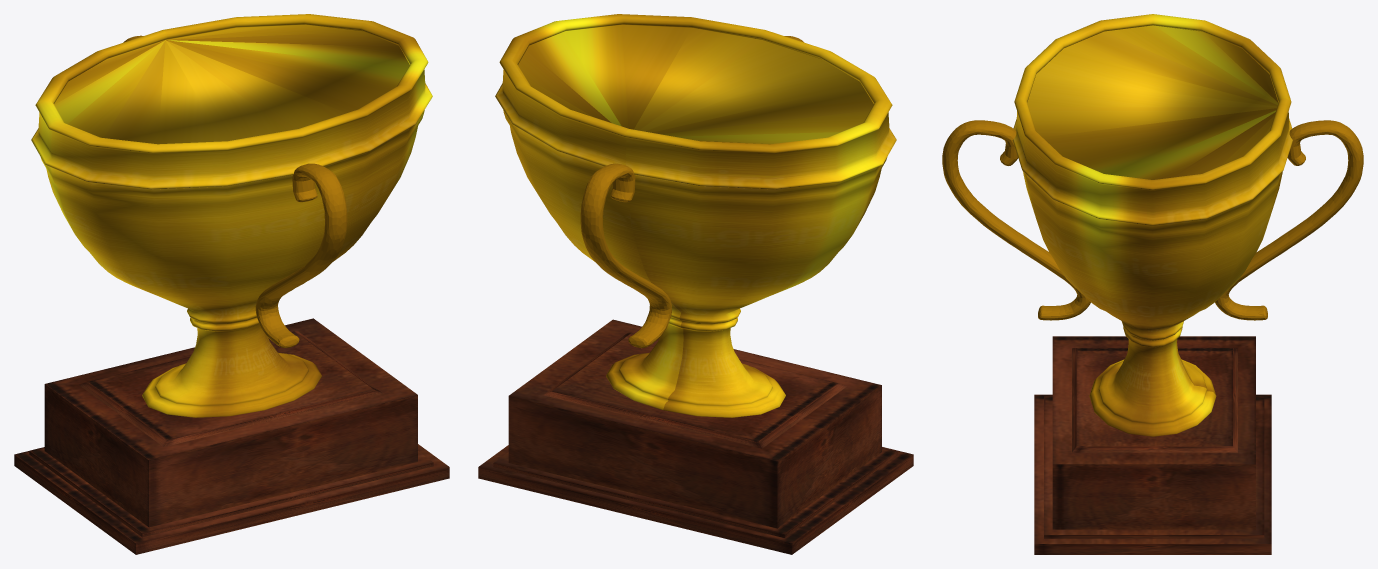
The model's file is trophee.obj.
3 renders of one model, left to right at view 1: azimuth 30°, elevation 25°; view 2: azimuth 150°, elevation 25°; view 3: azimuth 270°, elevation 25°, orthographic. The views are drawn at different scales.
Parts seen in each view (by area): view 1: trophee_Plane.002; view 2: trophee_Plane.002; view 3: trophee_Plane.002.
Part boxes in pixels (x1=…): trophee_Plane.002: x1=14, y1=14, x2=449, y2=554; trophee_Plane.002: x1=478, y1=14, x2=913, y2=554; trophee_Plane.002: x1=942, y1=14, x2=1363, y2=554.
Bounding box in the file's own units: 1 × 1 × 0.9997.
